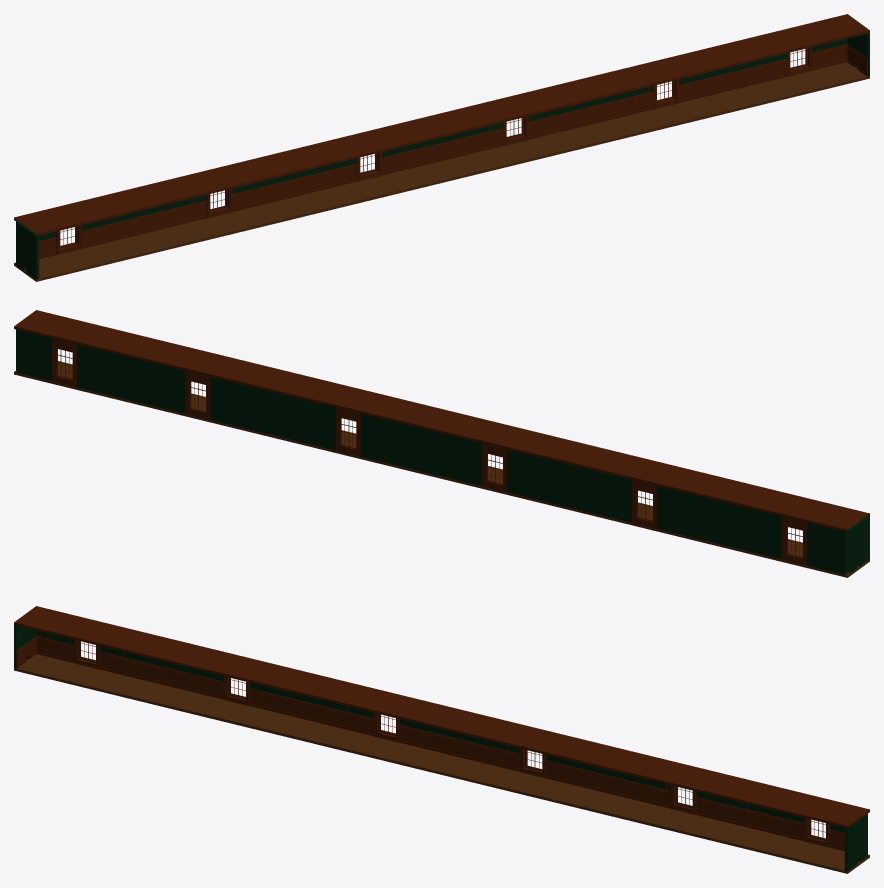
File: Corredor_v3.fbx
The picture shows the model from 3 angles, top to bottom: view 1: azimuth 30°, elevation 25°; view 2: azimuth 150°, elevation 25°; view 3: azimuth 330°, elevation 25°; orthographic projection.
Visible parts, largest first — view 1: Corredor_v2:CorredorpolySurface45HabitaciónTecho, Corredor_v2:CorredorpolySurface47HabitaciónTecho1, Corredor_v2:CorredorHabitacionSuelo2, Corredor_v2:HabitacionSueloCorredor, Corredor_v2:CorredorpolySurface49HabitaciónTecho2, Corredor_v2:CorredorHabitacionSuelo3, Corredor_v2:CorredorSoporteParedHor_6, Corredor_v2:CorredorSoporteParedHor_9, Corredor_v2:CorredorSoporteParedHor_8, Corredor_v2:CorredorSoporteParedHor_7, Corredor_v2:CorredorSoporteParedHor_5, Corredor_v2:CorredorHabitacionPared_izq (+6 smaller); view 2: Corredor_v2:CorredorpolySurface45HabitaciónTecho, Corredor_v2:CorredorpolySurface47HabitaciónTecho1, Corredor_v2:CorredorHabitacionPared6polySurface34, Corredor_v2:CorredorpolySurface49HabitaciónTecho2, Corredor_v2:CorredorHabitacionPared1polySurface40, Corredor_v2:CorredorHabitacionPared5polySurface36, Corredor_v2:CorredorHabitacionPared4polySurface38, Corredor_v2:CorredorHabitacionPared2polySurface42, Corredor_v2:CorredorHabitacionPared3polySurface44, Corredor_v2:CorredorHabitacionSuelo2, Corredor_v2:HabitacionSueloCorredor, Corredor_v2:CorredorHabitacionSuelo3 (+7 smaller); view 3: Corredor_v2:CorredorpolySurface45HabitaciónTecho, Corredor_v2:CorredorpolySurface47HabitaciónTecho1, Corredor_v2:CorredorHabitacionSuelo2, Corredor_v2:HabitacionSueloCorredor, Corredor_v2:CorredorpolySurface49HabitaciónTecho2, Corredor_v2:CorredorHabitacionSuelo3, Corredor_v2:CorredorSoporteParedHor_8, Corredor_v2:CorredorSoporteParedHor_9, Corredor_v2:CorredorSoporteParedHor_6, Corredor_v2:CorredorSoporteParedHor_7, Corredor_v2:CorredorSoporteParedHor_5, Corredor_v2:CorredorHabitacionPared_izq1 (+6 smaller).
Part boxes in pixels (x1,y1,x2,y2): Corredor_v2:CorredorpolySurface45HabitaciónTecho: [549, 14, 869, 105]; Corredor_v2:CorredorpolySurface47HabitaciónTecho1: [252, 87, 571, 178]; Corredor_v2:CorredorHabitacionSuelo2: [254, 134, 571, 223]; Corredor_v2:HabitacionSueloCorredor: [552, 62, 869, 150]; Corredor_v2:CorredorpolySurface49HabitaciónTecho2: [14, 159, 273, 236]; Corredor_v2:CorredorHabitacionSuelo3: [14, 207, 273, 281]; Corredor_v2:CorredorSoporteParedHor_6: [528, 91, 653, 139]; Corredor_v2:CorredorSoporteParedHor_9: [82, 200, 206, 248]; Corredor_v2:CorredorSoporteParedHor_8: [232, 164, 356, 211]; Corredor_v2:CorredorSoporteParedHor_7: [382, 128, 503, 175]; Corredor_v2:CorredorSoporteParedHor_5: [679, 59, 786, 102]; Corredor_v2:CorredorHabitacionPared_izq: [16, 222, 38, 279]; Corredor_v2:CorredorpolySurface45HabitaciónTecho: [14, 310, 334, 401]; Corredor_v2:CorredorpolySurface47HabitaciónTecho1: [312, 383, 631, 474]; Corredor_v2:CorredorHabitacionPared6polySurface34: [670, 489, 847, 574]; Corredor_v2:CorredorpolySurface49HabitaciónTecho2: [610, 455, 869, 532]; Corredor_v2:CorredorHabitacionPared1polySurface40: [223, 380, 374, 459]; Corredor_v2:CorredorHabitacionPared5polySurface36: [520, 452, 670, 531]; Corredor_v2:CorredorHabitacionPared4polySurface38: [374, 417, 520, 495]; Corredor_v2:CorredorHabitacionPared2polySurface42: [90, 347, 223, 422]; Corredor_v2:CorredorHabitacionPared3polySurface44: [16, 329, 89, 390]; Corredor_v2:CorredorHabitacionSuelo2: [312, 430, 609, 519]; Corredor_v2:HabitacionSueloCorredor: [14, 361, 312, 446]; Corredor_v2:CorredorHabitacionSuelo3: [610, 502, 869, 577]; Corredor_v2:CorredorpolySurface45HabitaciónTecho: [549, 736, 869, 828]; Corredor_v2:CorredorpolySurface47HabitaciónTecho1: [251, 664, 570, 755]; Corredor_v2:CorredorHabitacionSuelo2: [251, 711, 568, 800]; Corredor_v2:HabitacionSueloCorredor: [549, 784, 869, 873]; Corredor_v2:CorredorpolySurface49HabitaciónTecho2: [14, 606, 273, 682]; Corredor_v2:CorredorHabitacionSuelo3: [14, 654, 270, 728]; Corredor_v2:CorredorSoporteParedHor_8: [249, 688, 373, 736]; Corredor_v2:CorredorSoporteParedHor_9: [99, 651, 223, 699]; Corredor_v2:CorredorSoporteParedHor_6: [546, 760, 670, 808]; Corredor_v2:CorredorSoporteParedHor_7: [399, 725, 520, 771]; Corredor_v2:CorredorSoporteParedHor_5: [696, 797, 803, 841]; Corredor_v2:CorredorHabitacionPared_izq1: [845, 814, 867, 871].
Size of the model in its own units: 67066 by 3703 by 3113.
